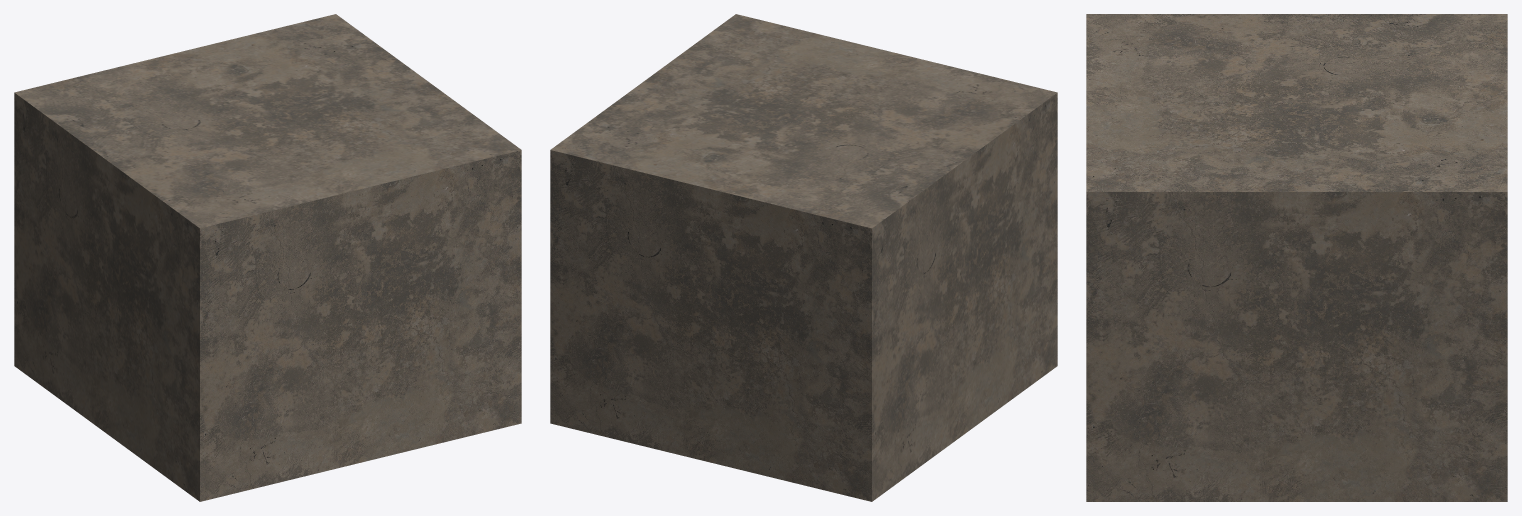
The model's file is UD_Event_Floor.fbx.
3 renders of one model, left to right at view 1: azimuth 30°, elevation 25°; view 2: azimuth 150°, elevation 25°; view 3: azimuth 270°, elevation 25°, orthographic. The views are drawn at different scales.
Visible parts, largest first — view 1: Box_E4B70D90_LOD0; view 2: Box_E4B70D90_LOD0; view 3: Box_E4B70D90_LOD0.
Boxes of the visible parts, left/top/right/bottom form: Box_E4B70D90_LOD0: left=14, top=14, right=521, bottom=501; Box_E4B70D90_LOD0: left=550, top=14, right=1057, bottom=501; Box_E4B70D90_LOD0: left=1086, top=14, right=1507, bottom=501.
Bounding box in the file's own units: 100 × 81.23 × 100.
